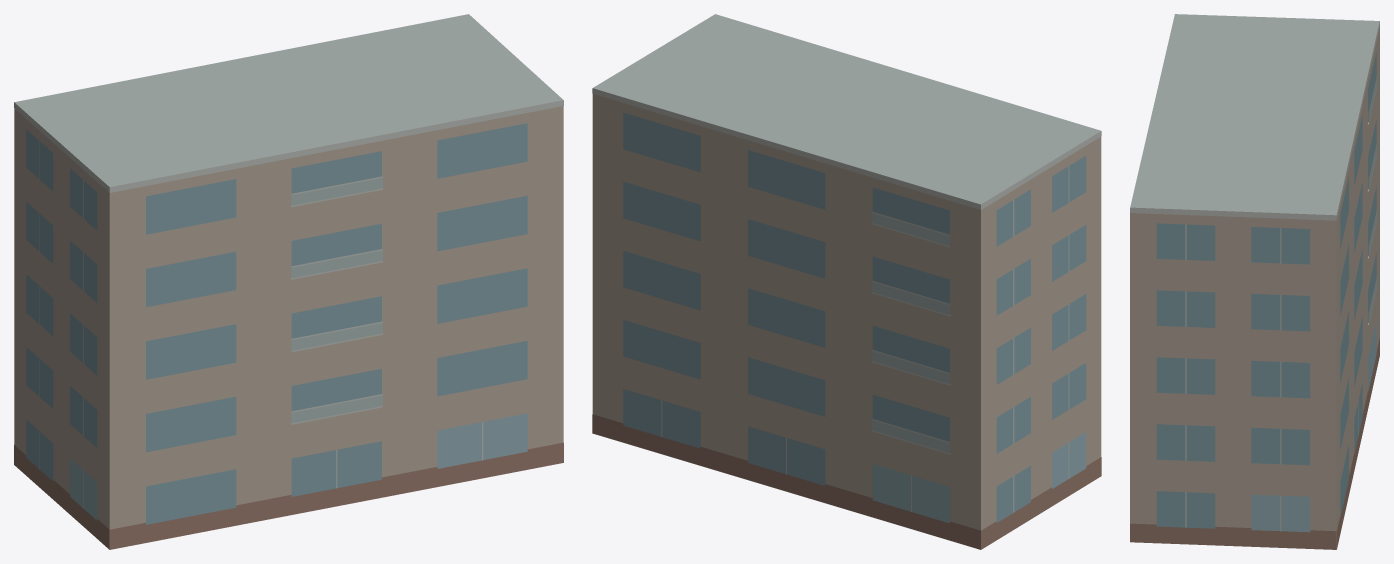
The model's file is survey-upis-32676703.glb.
3 renders of one model, left to right at view 1: azimuth 30°, elevation 25°; view 2: azimuth 150°, elevation 25°; view 3: azimuth 270°, elevation 25°, orthographic. The views are drawn at different scales.
Parts seen in each view (by area): view 1: survey-upis-32676703.tmp; view 2: survey-upis-32676703.tmp; view 3: survey-upis-32676703.tmp.
Boxes of the visible parts, x1,y1,x2,y2 form: survey-upis-32676703.tmp: [14, 14, 563, 549]; survey-upis-32676703.tmp: [592, 14, 1101, 549]; survey-upis-32676703.tmp: [1130, 14, 1379, 549].
Size of the model in its own units: 19.67 by 15.25 by 10.32.
